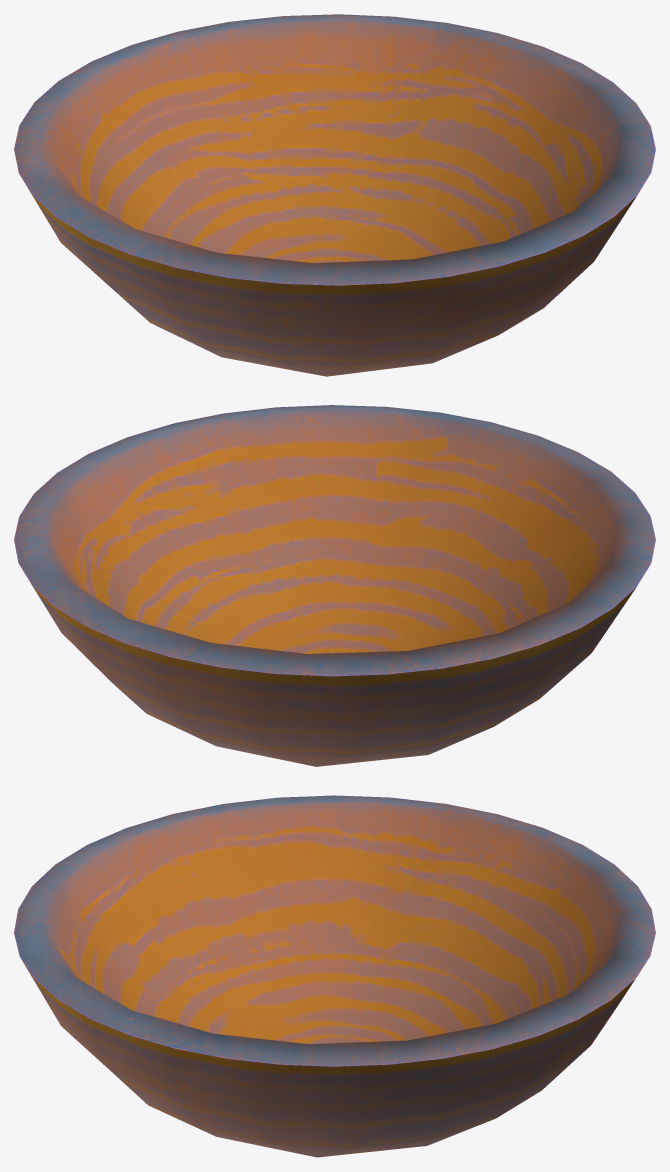
File: SM_Potion_Props_Bowl_01.fbx
The picture shows the model from 3 angles, top to bottom: view 1: azimuth 30°, elevation 25°; view 2: azimuth 150°, elevation 25°; view 3: azimuth 270°, elevation 25°; orthographic projection.
Visible parts, largest first — view 1: SM_Potion_Props_Bowl_01_LOD0; view 2: SM_Potion_Props_Bowl_01_LOD0; view 3: SM_Potion_Props_Bowl_01_LOD0.
Part boxes in pixels (x1,y1,x2,y2): SM_Potion_Props_Bowl_01_LOD0: (14,14,655,376); SM_Potion_Props_Bowl_01_LOD0: (14,405,655,766); SM_Potion_Props_Bowl_01_LOD0: (14,795,655,1157).
Size of what is drawn, in the model's own units: 23.51 by 8.29 by 23.52.
